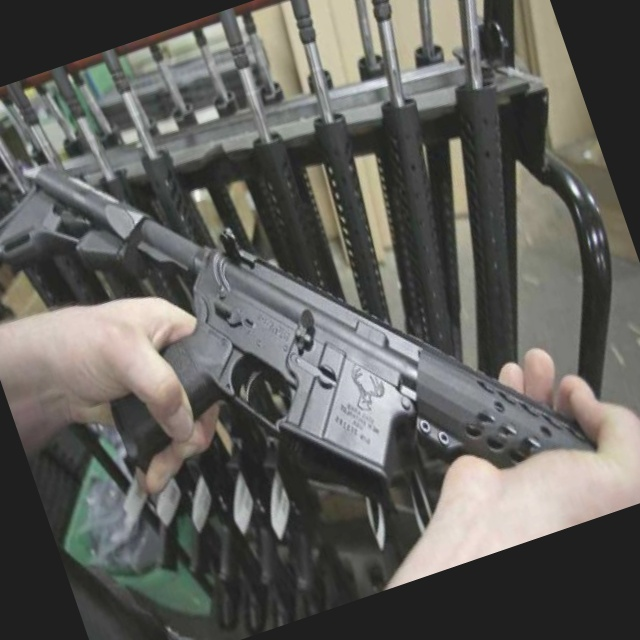gun: (0, 19, 613, 634)
